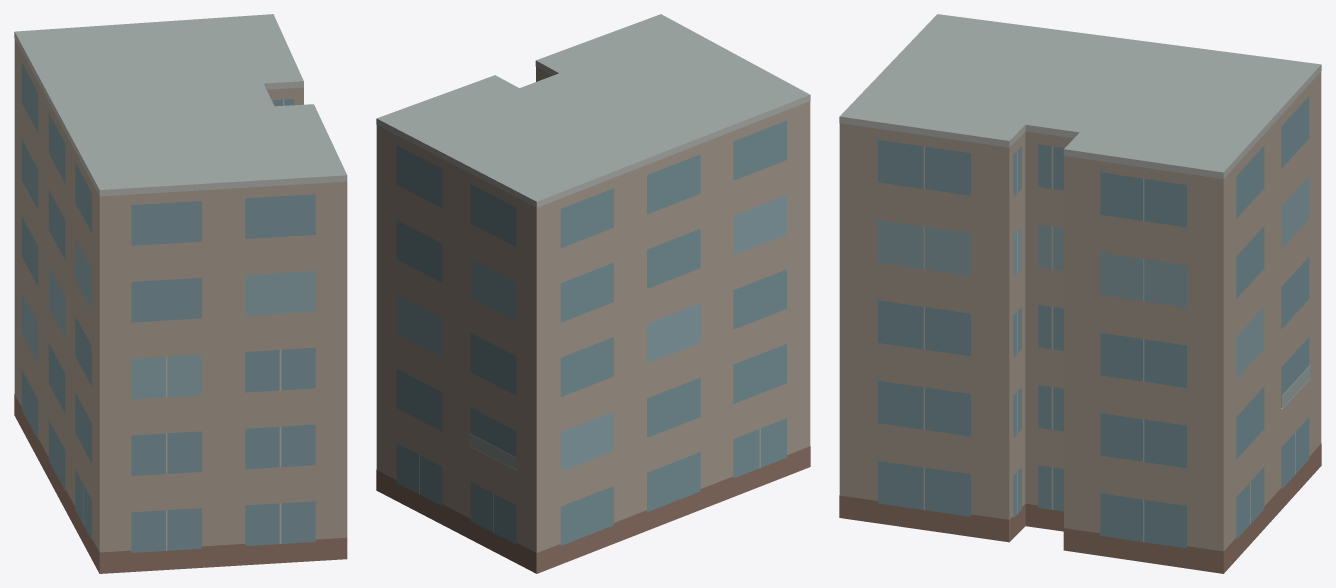
The model's file is survey-upis-32869796.glb.
3 renders of one model, left to right at view 1: azimuth 30°, elevation 25°; view 2: azimuth 150°, elevation 25°; view 3: azimuth 270°, elevation 25°, orthographic. The views are drawn at different scales.
Visible parts, largest first — view 1: survey-upis-32869796.tmp; view 2: survey-upis-32869796.tmp; view 3: survey-upis-32869796.tmp.
Part boxes in pixels (x1,y1,x2,y2): survey-upis-32869796.tmp: (14, 14, 347, 573); survey-upis-32869796.tmp: (376, 14, 810, 573); survey-upis-32869796.tmp: (839, 14, 1321, 573).
Bounding box in the file's own units: 12.51 × 14.75 × 16.06.
